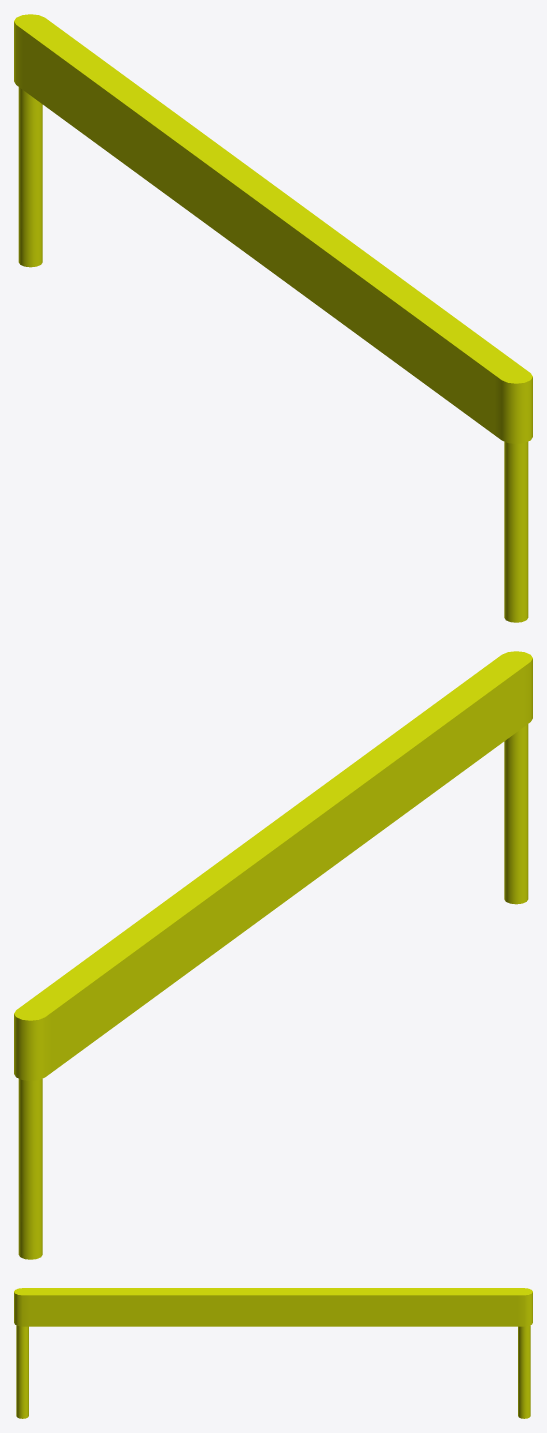
File: RT ADN V03 C03.FBX
3 renders of one model, top to bottom at view 1: azimuth 30°, elevation 25°; view 2: azimuth 150°, elevation 25°; view 3: azimuth 270°, elevation 25°, orthographic. The views are drawn at different scales.
Parts seen in each view (by area): view 1: RT ADN V03 C03; view 2: RT ADN V03 C03; view 3: RT ADN V03 C03.
Part boxes in pixels (x1=…): RT ADN V03 C03: x1=14, y1=14, x2=532, y2=622; RT ADN V03 C03: x1=14, y1=651, x2=532, y2=1259; RT ADN V03 C03: x1=14, y1=1288, x2=532, y2=1418.
Size of the model in its own units: 1.01 by 8 by 30.22.
